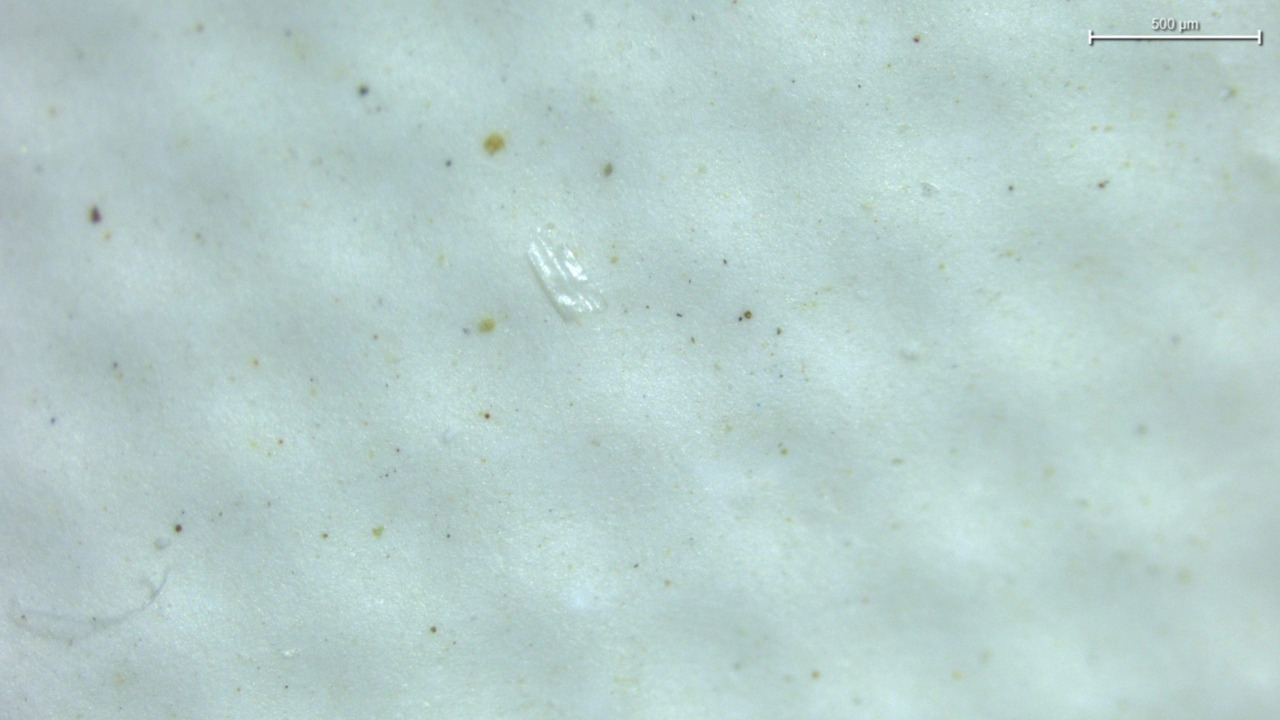microplastic_fragment: (527, 228, 603, 322)
